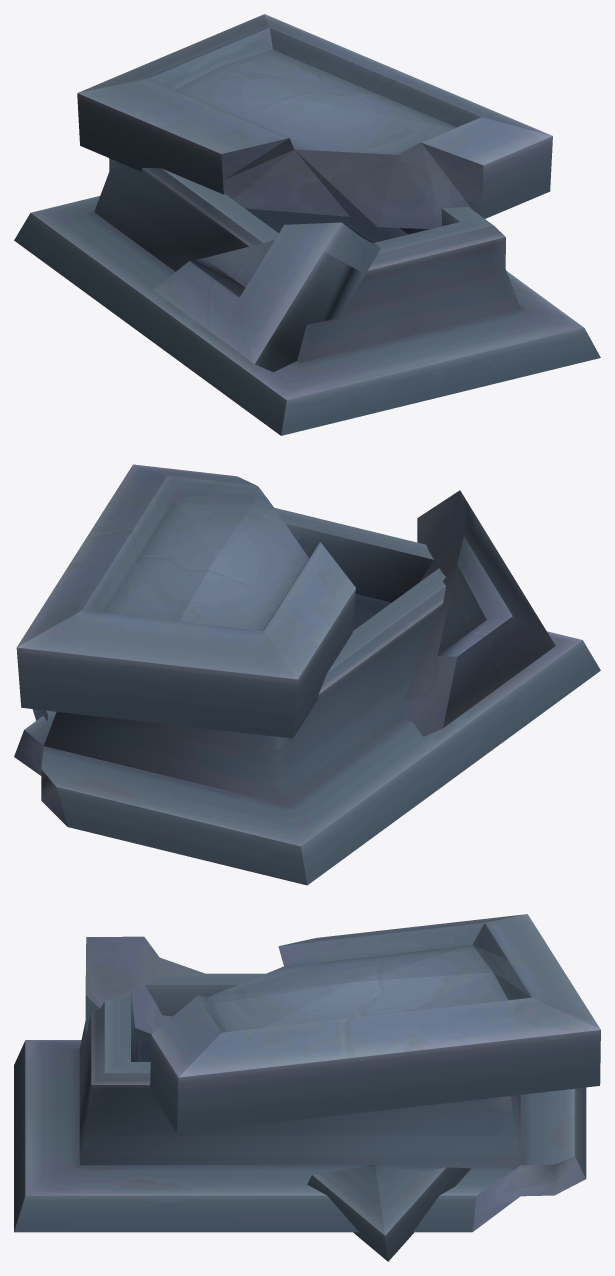
The model's file is Obstacle1B-003_02_17_8454.fbx.
3 renders of one model, top to bottom at view 1: azimuth 30°, elevation 25°; view 2: azimuth 150°, elevation 25°; view 3: azimuth 270°, elevation 25°, orthographic. The views are drawn at different scales.
Visible parts, largest first — view 1: CoffinBaseBroken1, CoffinCoverBroken1, CoffinCoverBroken2; view 2: CoffinBaseBroken1, CoffinCoverBroken1, CoffinCoverBroken2; view 3: CoffinBaseBroken1, CoffinCoverBroken1, CoffinBaseBroken2, CoffinCoverBroken2.
Boxes of the visible parts, x1=… form: CoffinBaseBroken1: x1=14, y1=158, x2=600, y2=435; CoffinCoverBroken1: x1=77, y1=14, x2=552, y2=228; CoffinCoverBroken2: x1=153, y1=222, x2=380, y2=372; CoffinBaseBroken1: x1=14, y1=507, x2=600, y2=885; CoffinCoverBroken1: x1=16, y1=464, x2=355, y2=738; CoffinCoverBroken2: x1=404, y1=490, x2=555, y2=736; CoffinBaseBroken1: x1=14, y1=973, x2=586, y2=1232; CoffinCoverBroken1: x1=150, y1=914, x2=600, y2=1133; CoffinBaseBroken2: x1=307, y1=1164, x2=470, y2=1261; CoffinCoverBroken2: x1=85, y1=936, x2=204, y2=1040.
Size of the model in its own units: 2.58 by 1.39 by 3.51.
